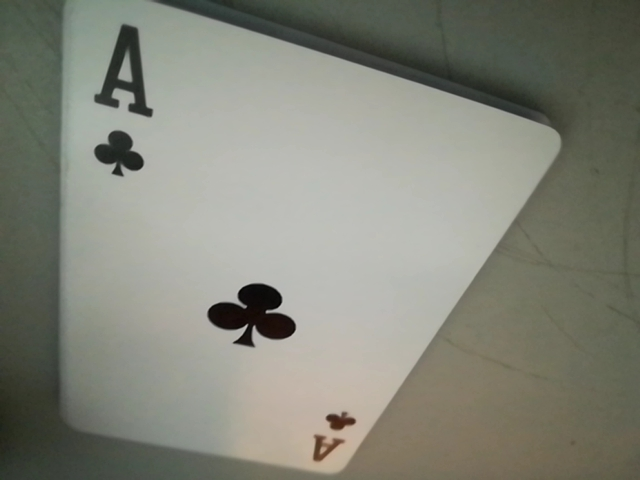mh a: (72, 19, 161, 188), (302, 406, 367, 471)
